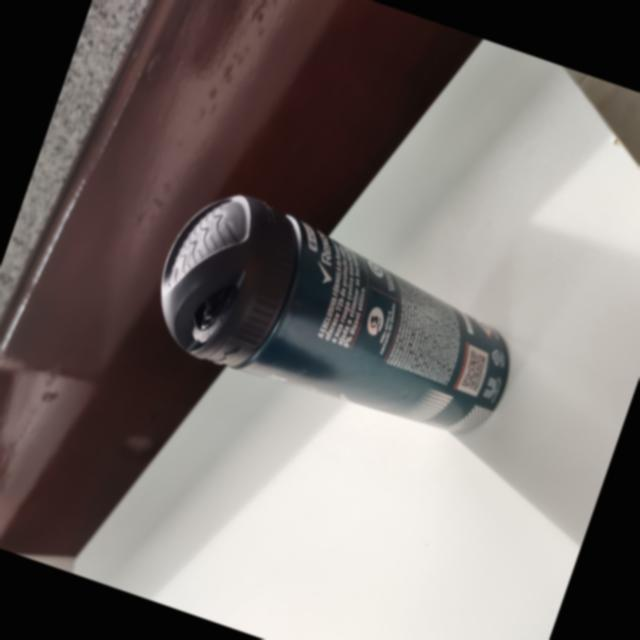Desodorante Azul: (143, 185, 508, 432)
